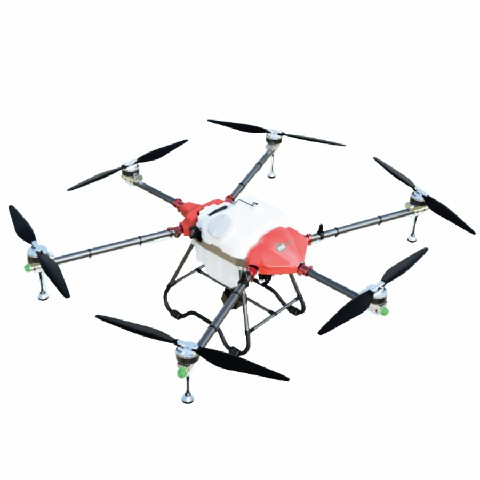maybay_khongnguoilai: (10, 120, 471, 379)
